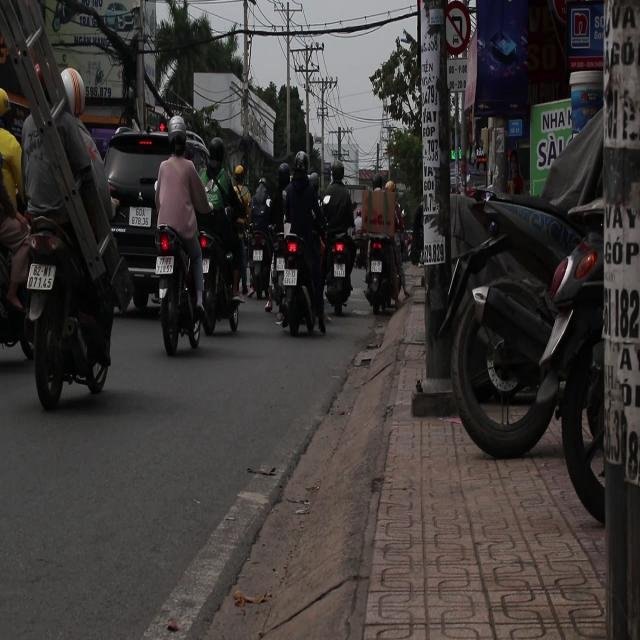car: (105, 115, 196, 322)
motorbike: (6, 205, 115, 408), (262, 214, 329, 371), (153, 216, 212, 355), (366, 208, 408, 340), (244, 190, 282, 303), (321, 224, 358, 314)
